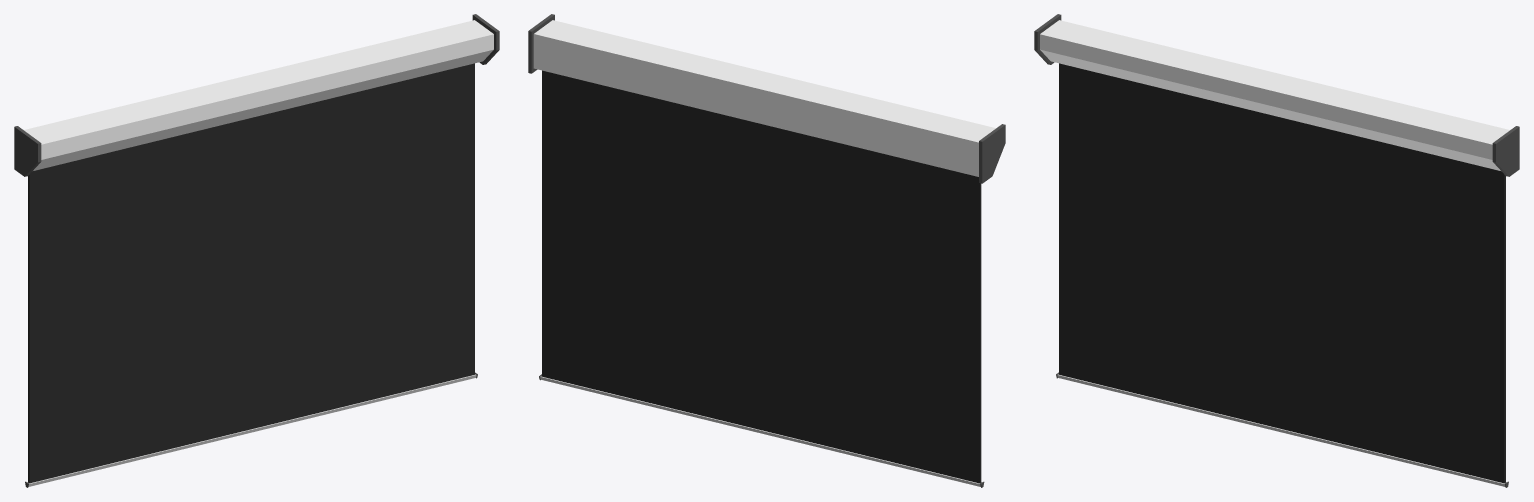
The model's file is projectorBoard.fbx.
The picture shows the model from 3 angles, left to right: view 1: azimuth 30°, elevation 25°; view 2: azimuth 150°, elevation 25°; view 3: azimuth 330°, elevation 25°; orthographic projection.
Visible parts, largest first — view 1: Cube; view 2: Cube; view 3: Cube.
Part boxes in pixels (x1,y1,x2,y2): Cube: (14,14,499,487); Cube: (528,14,1005,487); Cube: (1034,14,1519,487).
Bounding box in the file's own units: 2000 × 1480 × 177.
